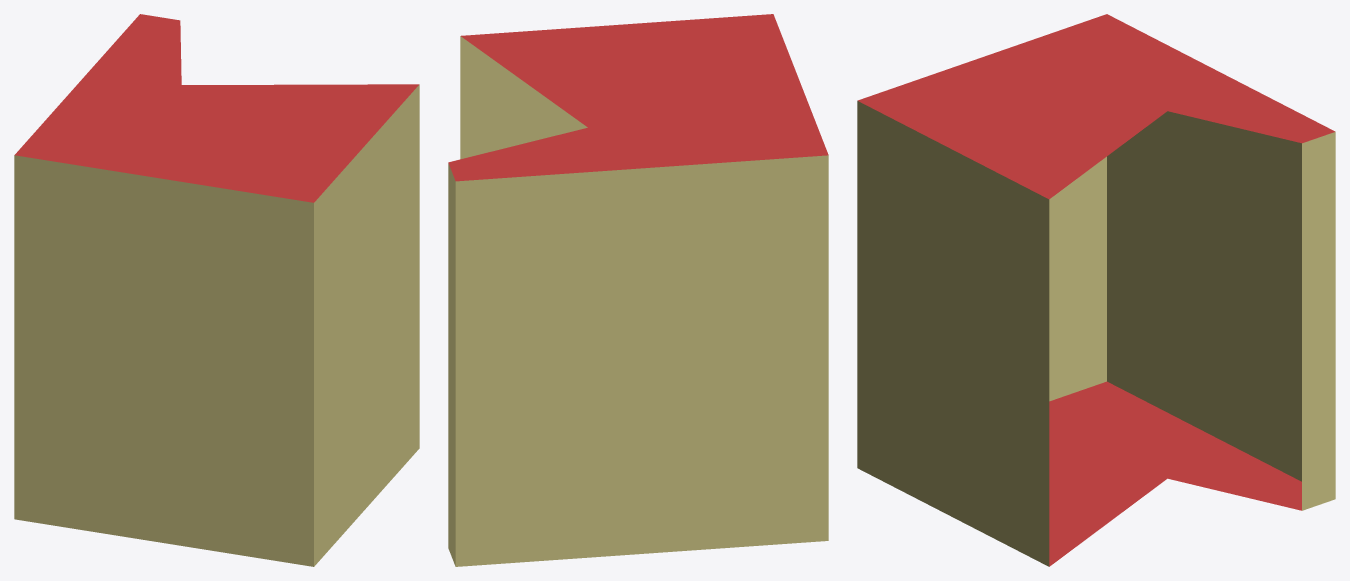
The picture shows the model from 3 angles, left to right: view 1: azimuth 30°, elevation 25°; view 2: azimuth 150°, elevation 25°; view 3: azimuth 270°, elevation 25°; orthographic projection. The views are drawn at different scales.
Parts seen in each view (by area): view 1: group_4, group_3; view 2: group_4, group_3; view 3: group_4, group_3, group_5.
Part boxes in pixels (<box>): group_4: <box>14,84,419,566</box>; group_3: <box>14,14,418,202</box>; group_4: <box>448,36,828,566</box>; group_3: <box>448,14,828,181</box>; group_4: <box>857,101,1335,566</box>; group_3: <box>857,14,1335,199</box>; group_5: <box>1049,381,1301,566</box>.
Bounding box in the file's own units: 8.81 × 9.6 × 8.13.
